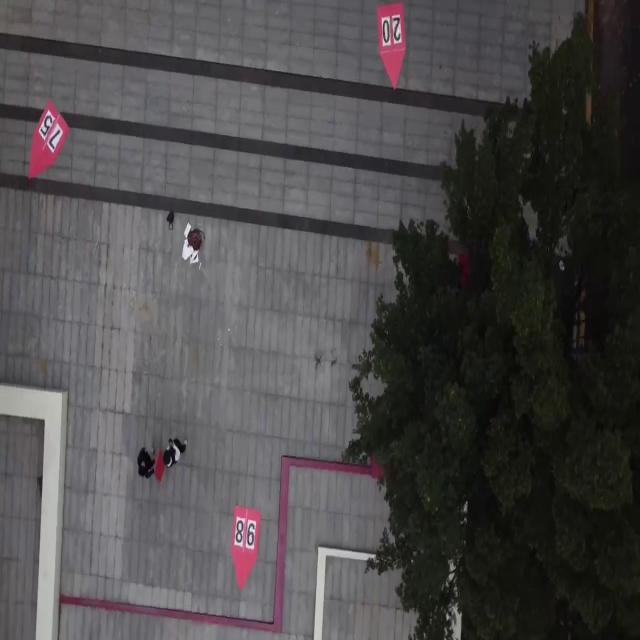-sign-: (28, 100, 69, 178), (230, 504, 260, 594), (376, 1, 406, 90)
